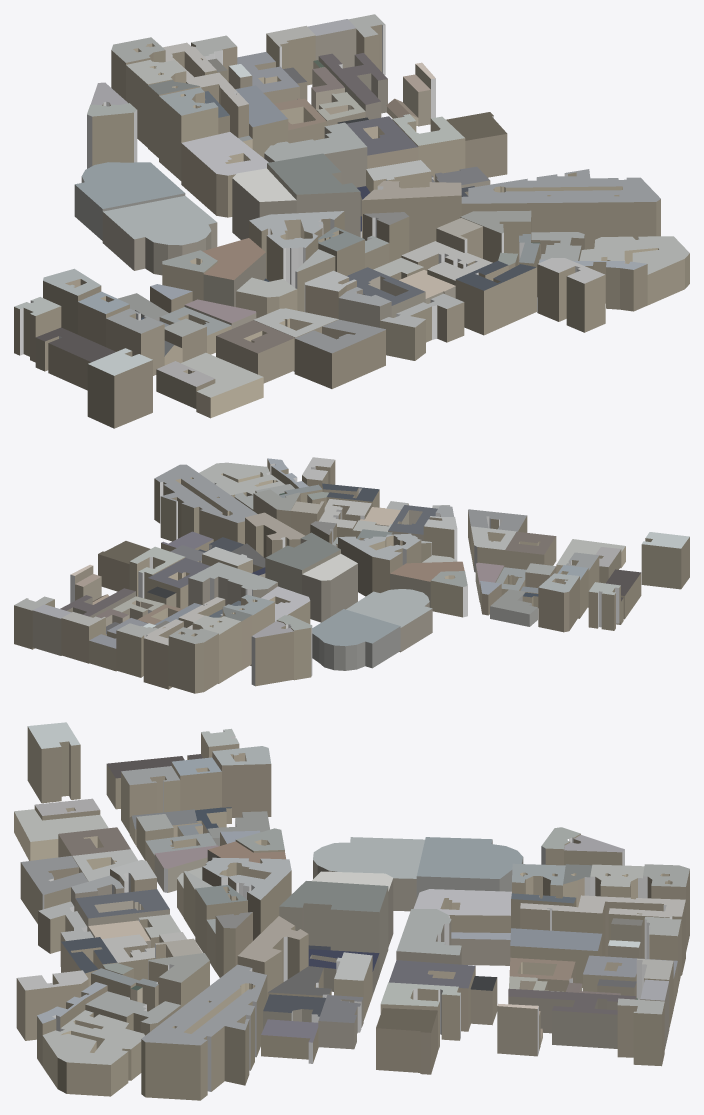
3 renders of one model, top to bottom at view 1: azimuth 30°, elevation 25°; view 2: azimuth 150°, elevation 25°; view 3: azimuth 270°, elevation 25°, orthographic. The views are drawn at different scales.
Visible parts, largest first — view 1: tuile; view 2: tuile; view 3: tuile.
Boxes of the visible parts, bbox=[...] form: tuile: bbox=[14, 14, 689, 428]; tuile: bbox=[14, 457, 689, 693]; tuile: bbox=[14, 722, 689, 1100].
Bounding box in the file's own units: 286 × 37.46 × 263.
